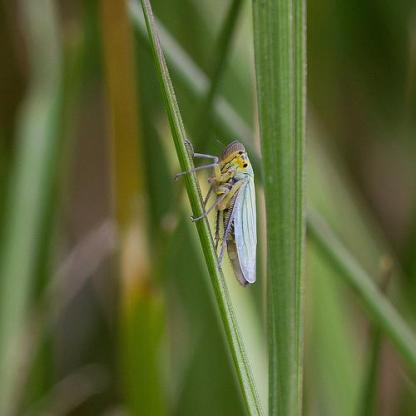Green-Leafhopper: (171, 132, 263, 289)
